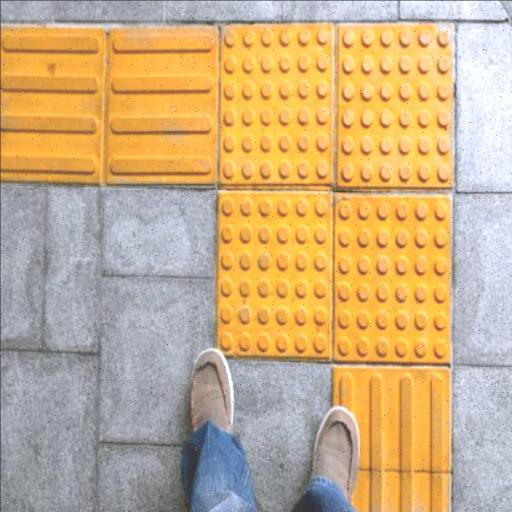dot: (217, 189, 335, 360), (336, 24, 456, 188), (218, 22, 337, 186), (335, 195, 452, 361)
line: (105, 27, 217, 185), (0, 24, 107, 184)
